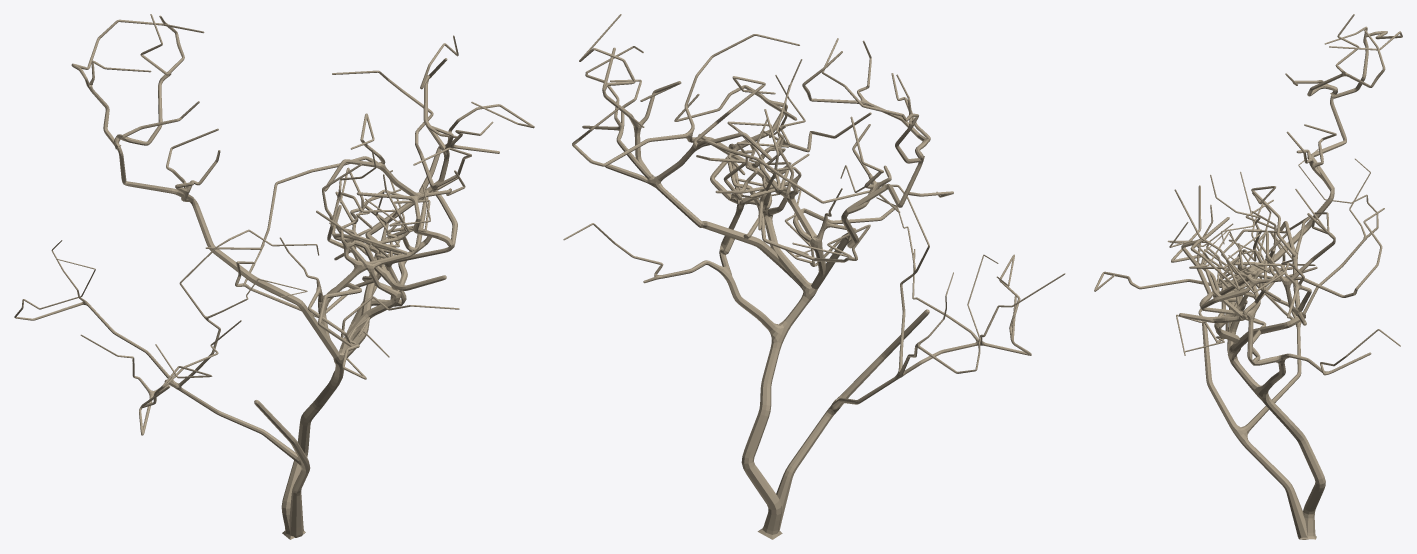
The picture shows the model from 3 angles, left to right: view 1: azimuth 30°, elevation 25°; view 2: azimuth 150°, elevation 25°; view 3: azimuth 270°, elevation 25°; orthographic projection. The views are drawn at different scales.
Bounding box in the file's own units: 2.91 × 3.2 × 1.89.
